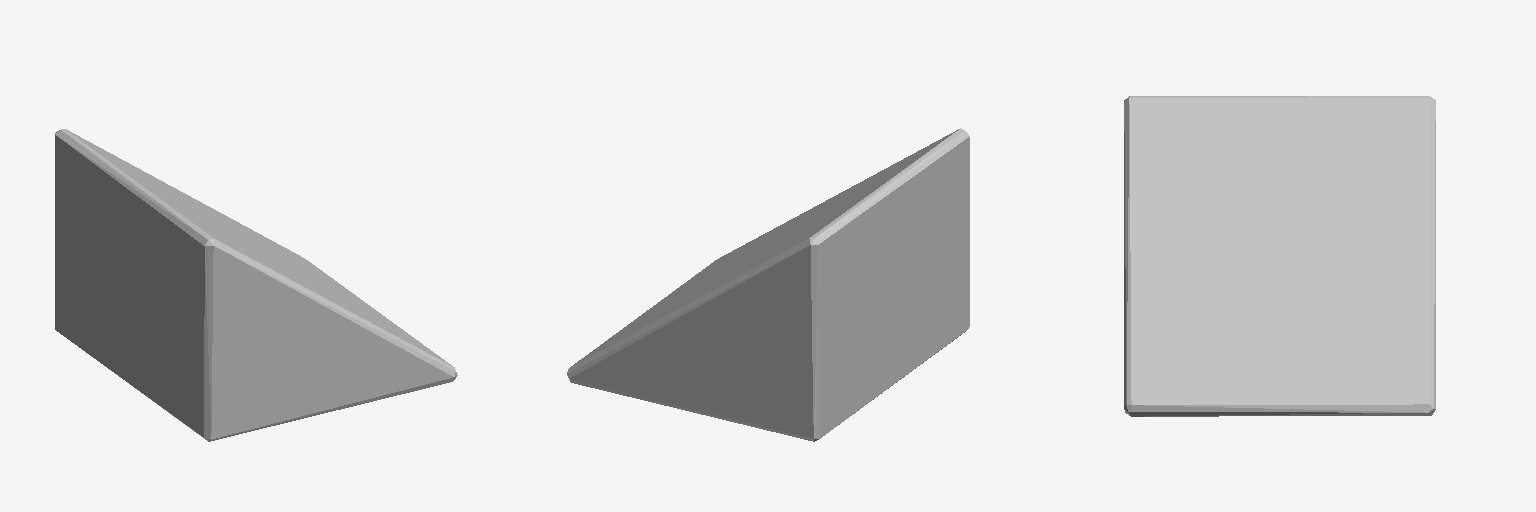
The model's file is wedge_short_stout_decimated.obj.
The picture shows the model from 3 angles: view 1: azimuth 30°, elevation 25°; view 2: azimuth 150°, elevation 25°; view 3: azimuth 270°, elevation 25°; orthographic projection.
Parts seen in each view (by area): view 1: my_mesh_wedge_short_stout; view 2: my_mesh_wedge_short_stout; view 3: my_mesh_wedge_short_stout.
Part boxes in pixels (bbox=[...]): my_mesh_wedge_short_stout: bbox=[55, 129, 457, 441]; my_mesh_wedge_short_stout: bbox=[567, 128, 969, 441]; my_mesh_wedge_short_stout: bbox=[1124, 96, 1435, 416].
Bounding box in the file's own units: 23.79 × 18.18 × 25.38.